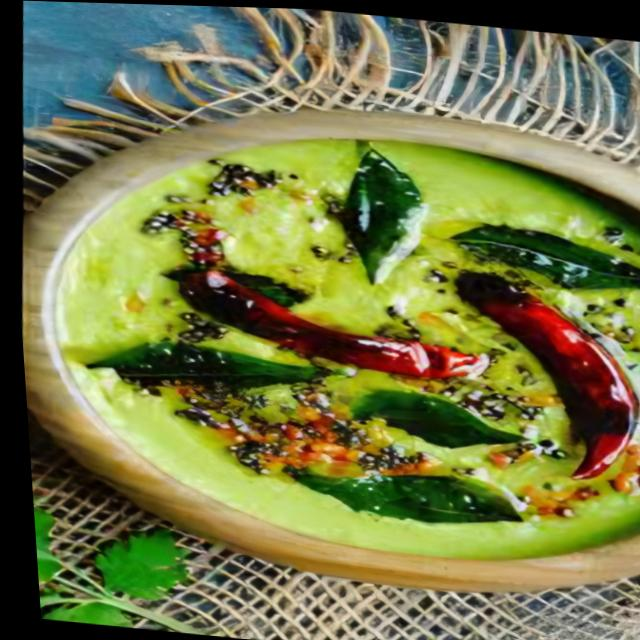GREEN CHUTNEY: (50, 137, 640, 557)
